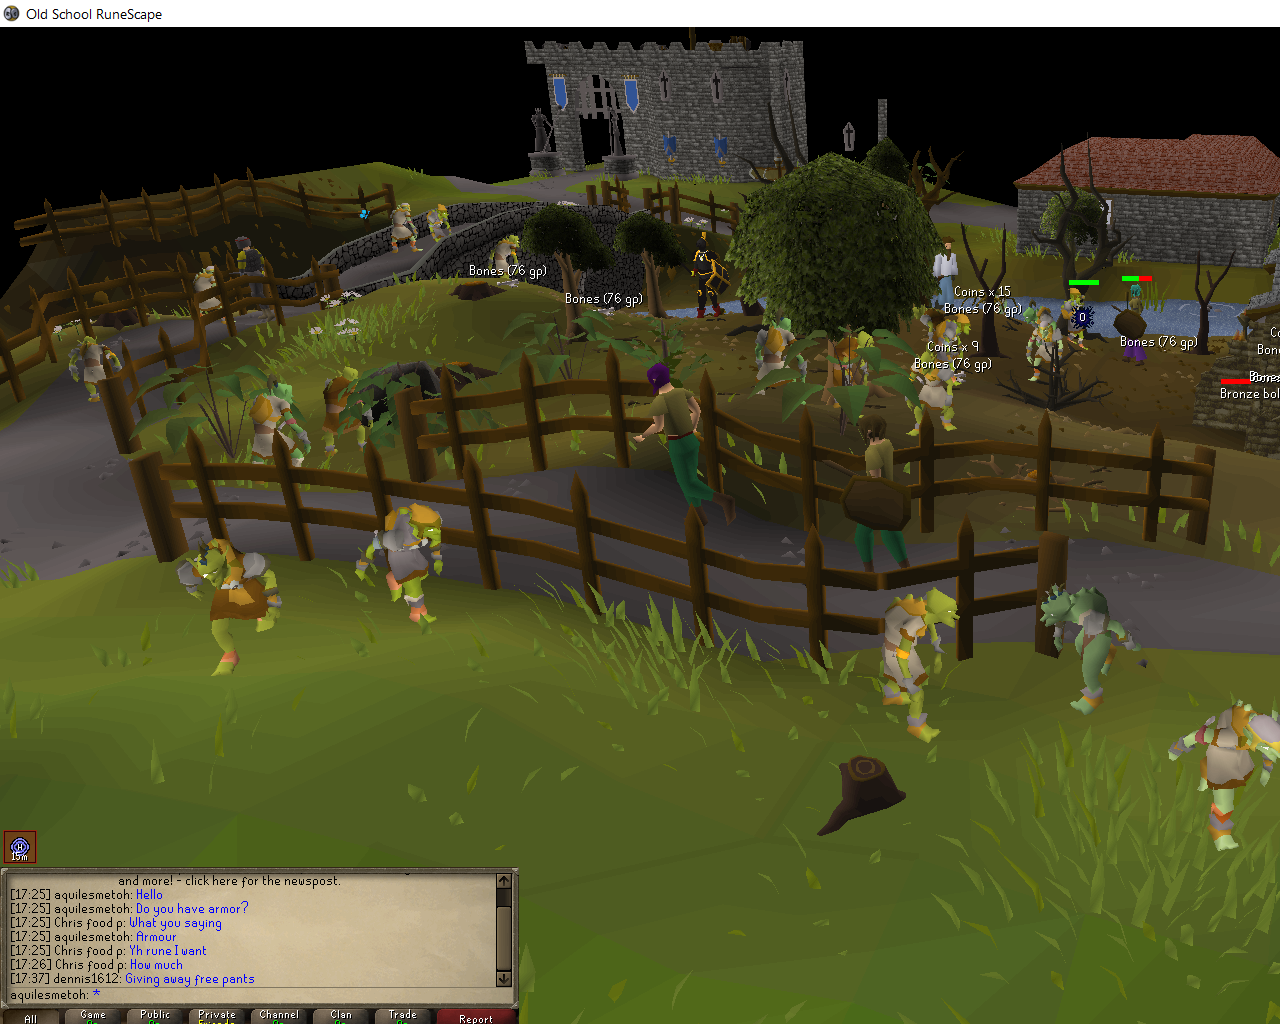Goblin: (170, 538, 298, 681), (1165, 697, 1280, 853), (1037, 580, 1156, 715), (870, 588, 968, 745), (351, 499, 453, 631), (248, 370, 315, 493), (316, 364, 386, 458), (903, 351, 961, 436), (753, 316, 812, 397), (827, 329, 880, 408), (68, 333, 126, 402), (911, 303, 958, 386), (936, 315, 977, 390), (189, 262, 234, 328), (1020, 303, 1068, 362), (484, 233, 532, 289), (1027, 323, 1069, 385), (1058, 288, 1097, 353), (385, 203, 424, 253), (426, 202, 459, 247)
